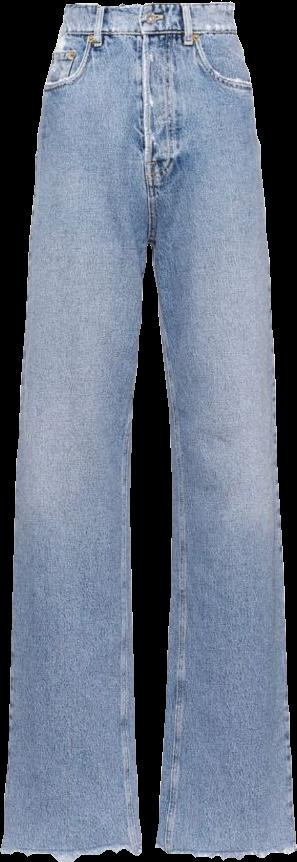Hemline: (155, 840, 296, 861), (0, 843, 142, 859)
Pantleg: (2, 2, 161, 860), (148, 4, 295, 856)
Waistline: (64, 0, 236, 15), (57, 28, 237, 42)
